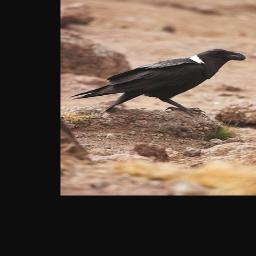Crow: (70, 46, 248, 120)
